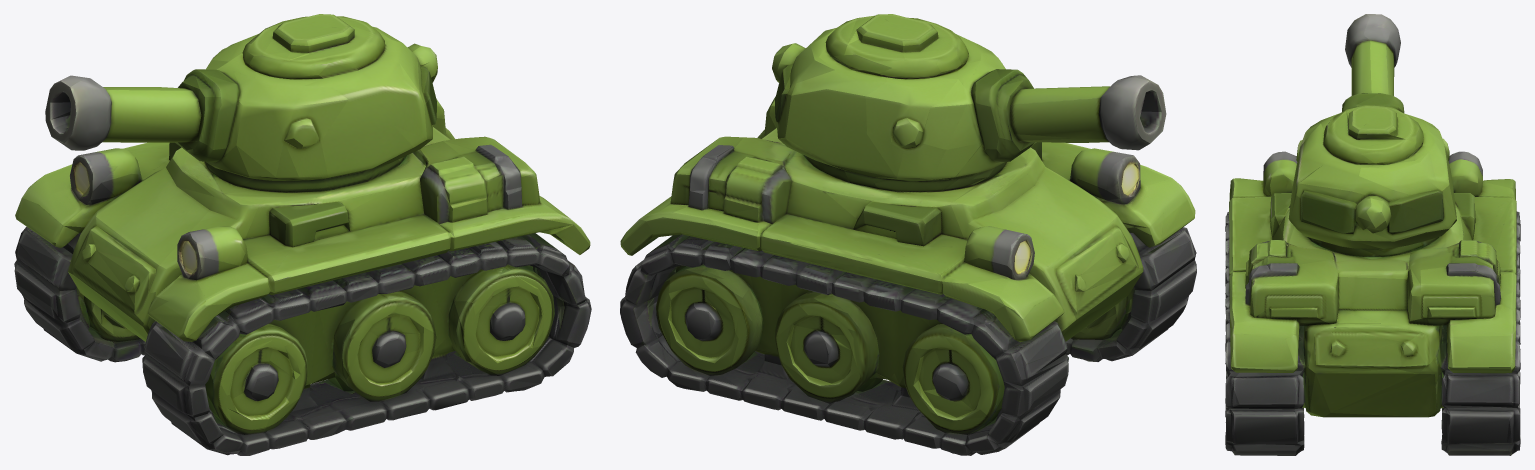
Rendered from mini_tank.glb.
The picture shows the model from 3 angles, left to right: view 1: azimuth 30°, elevation 25°; view 2: azimuth 150°, elevation 25°; view 3: azimuth 270°, elevation 25°; orthographic projection. The views are drawn at different scales.
Bounding box in the file's own units: 1.9 × 1.36 × 1.28.
Materials: 1 (1 with a texture image).
